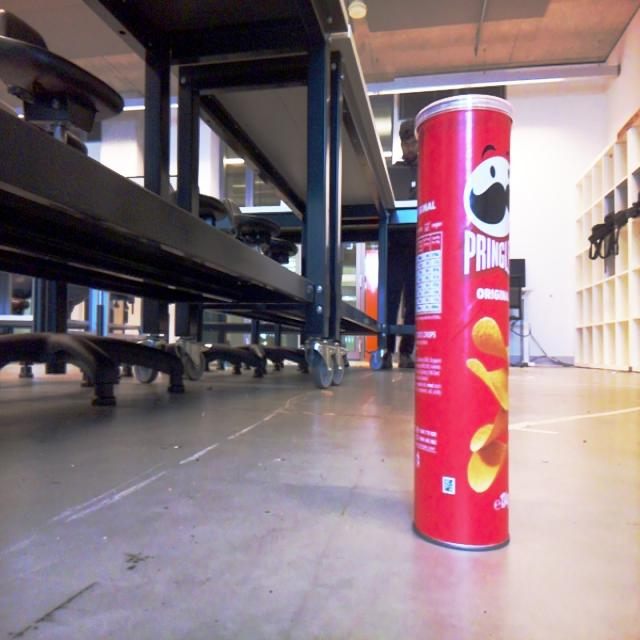redpringles: (408, 90, 528, 561)
